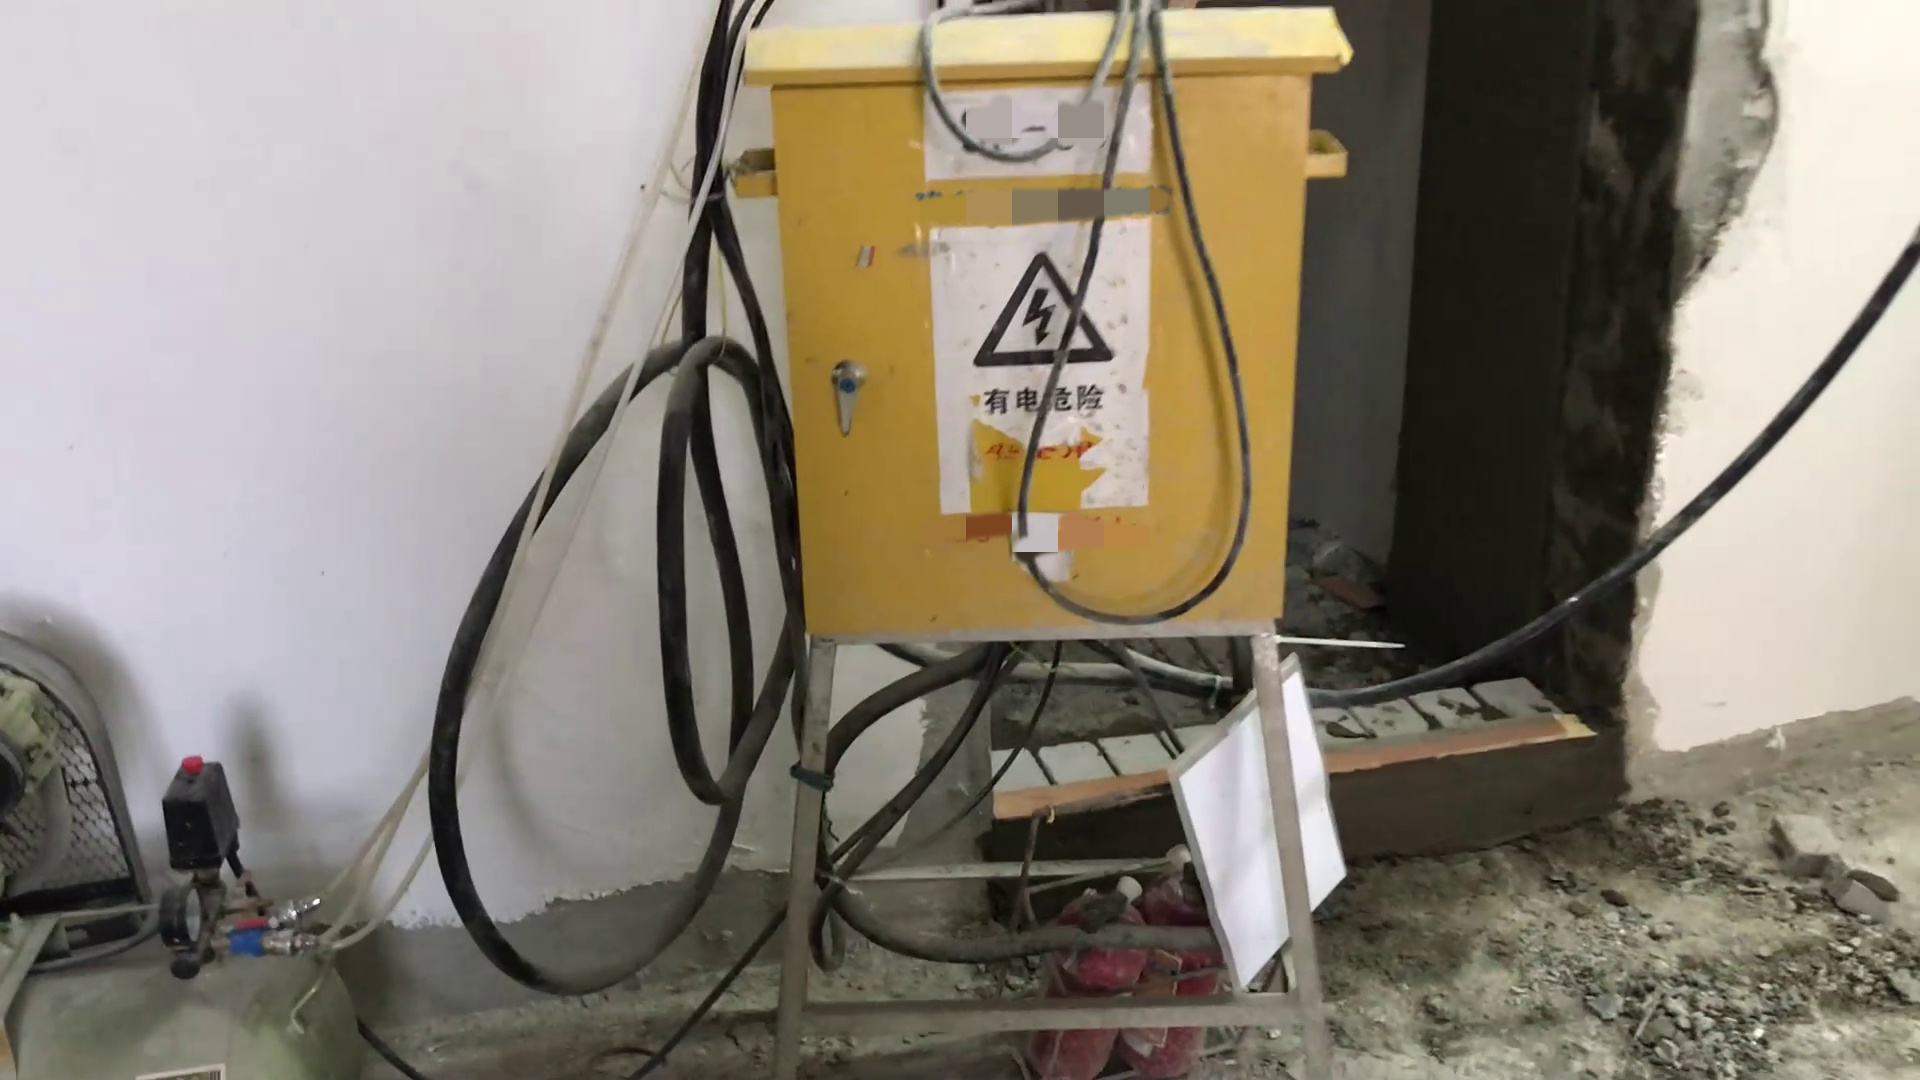ebox: (704, 11, 1350, 1080)
